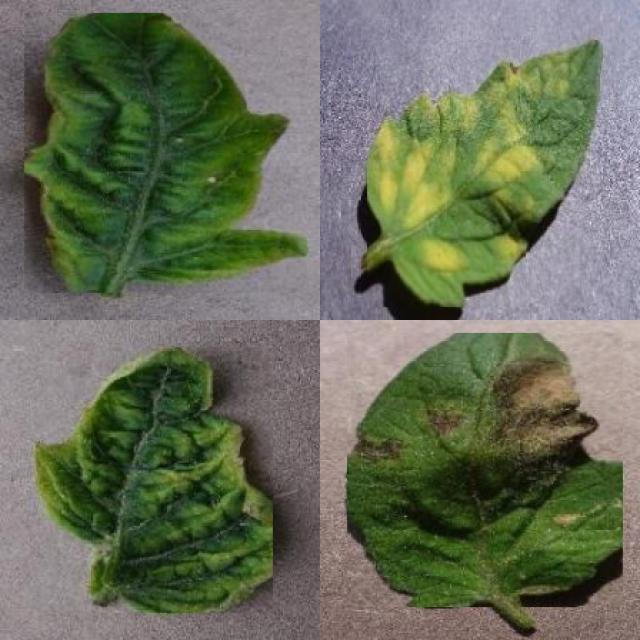Late Blight: (347, 333, 623, 608)
Leaf Mold: (367, 40, 603, 307)
Yellow Leaf Curl Virus: (25, 13, 308, 294), (36, 347, 273, 613)
